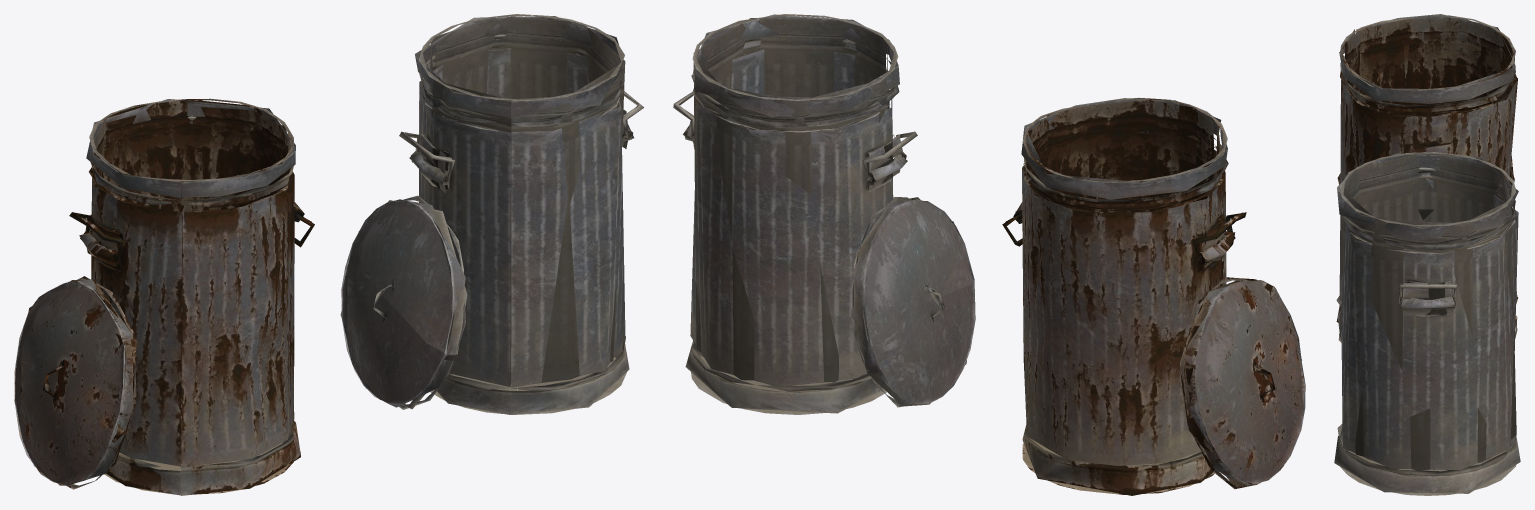
File: metal_trash_can.glb
3 renders of one model, left to right at view 1: azimuth 30°, elevation 25°; view 2: azimuth 150°, elevation 25°; view 3: azimuth 270°, elevation 25°, orthographic. The views are drawn at different scales.
Parts seen in each view (by area): view 1: metal_trash_can, metal_trash_can_rust, metal_trash_can_lid, metal_trash_can_rust_lid; view 2: metal_trash_can, metal_trash_can_rust, metal_trash_can_lid, metal_trash_can_rust_lid; view 3: metal_trash_can, metal_trash_can_rust, metal_trash_can_handle_right.
Boxes of the visible parts, left/top/right/bottom form: metal_trash_can: left=409, top=14, right=633, bottom=414; metal_trash_can_rust: left=79, top=98, right=304, bottom=495; metal_trash_can_lid: left=340, top=195, right=467, bottom=409; metal_trash_can_rust_lid: left=14, top=276, right=136, bottom=489; metal_trash_can: left=683, top=14, right=907, bottom=414; metal_trash_can_rust: left=1013, top=97, right=1235, bottom=495; metal_trash_can_lid: left=851, top=197, right=975, bottom=407; metal_trash_can_rust_lid: left=1180, top=277, right=1305, bottom=488; metal_trash_can: left=1334, top=151, right=1520, bottom=495; metal_trash_can_rust: left=1336, top=14, right=1517, bottom=325; metal_trash_can_handle_right: left=1398, top=284, right=1457, bottom=303.
Size of the model in its own units: 1.77 by 0.9068 by 0.5703.
3 materials, 3 textured.
